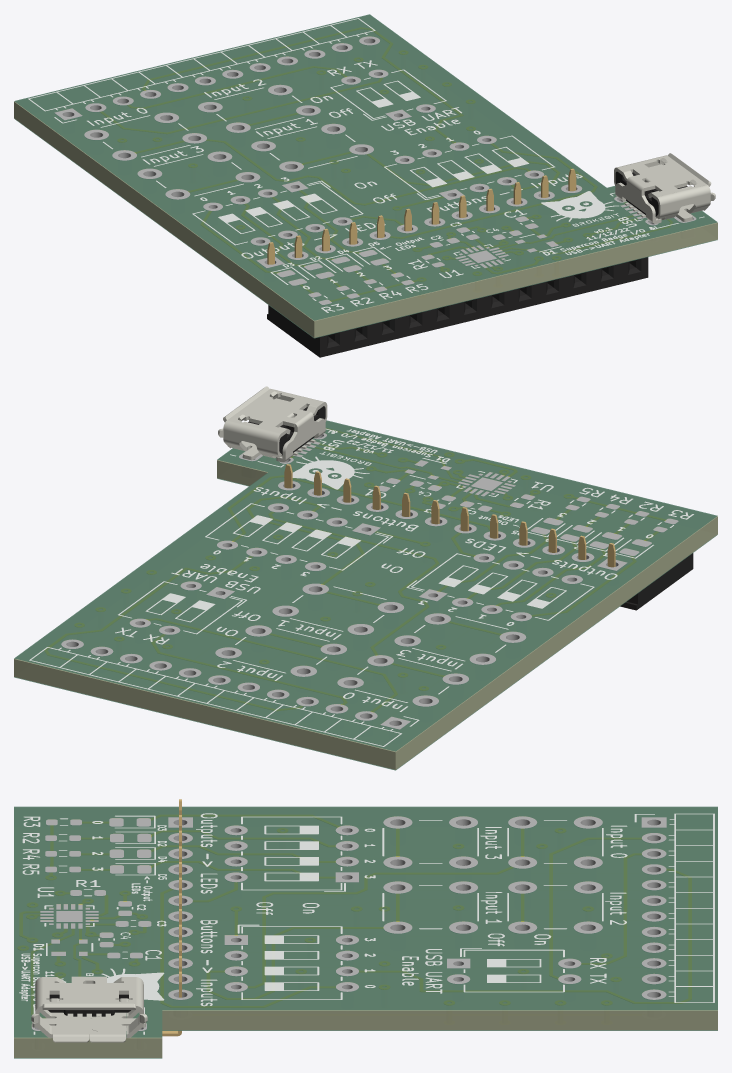
Rendered from supercon-2022-badge-programming-adapter.glb.
3 views of the same model, one above another, from view 1: azimuth 30°, elevation 25°; view 2: azimuth 150°, elevation 25°; view 3: azimuth 270°, elevation 25° (orthographic). The views are drawn at different scales.
Visible parts, largest first — view 1: =>[0:1:1:9], =>[0:1:1:3]; view 2: =>[0:1:1:9], =>[0:1:1:3]; view 3: =>[0:1:1:9], =>[0:1:1:3].
Part boxes in pixels (x1=…): =>[0:1:1:9]: x1=14, y1=14, x2=717, y2=338; =>[0:1:1:3]: x1=54, y1=28, x2=715, y2=357; =>[0:1:1:9]: x1=14, y1=420, x2=717, y2=770; =>[0:1:1:3]: x1=45, y1=386, x2=693, y2=729; =>[0:1:1:9]: x1=14, y1=806, x2=717, y2=1058; =>[0:1:1:3]: x1=18, y1=799, x2=691, y2=1042.
Size of the model in its own units: 0.0381 by 0.00688 by 0.0483.
Materials: 2 (2 with a texture image).
